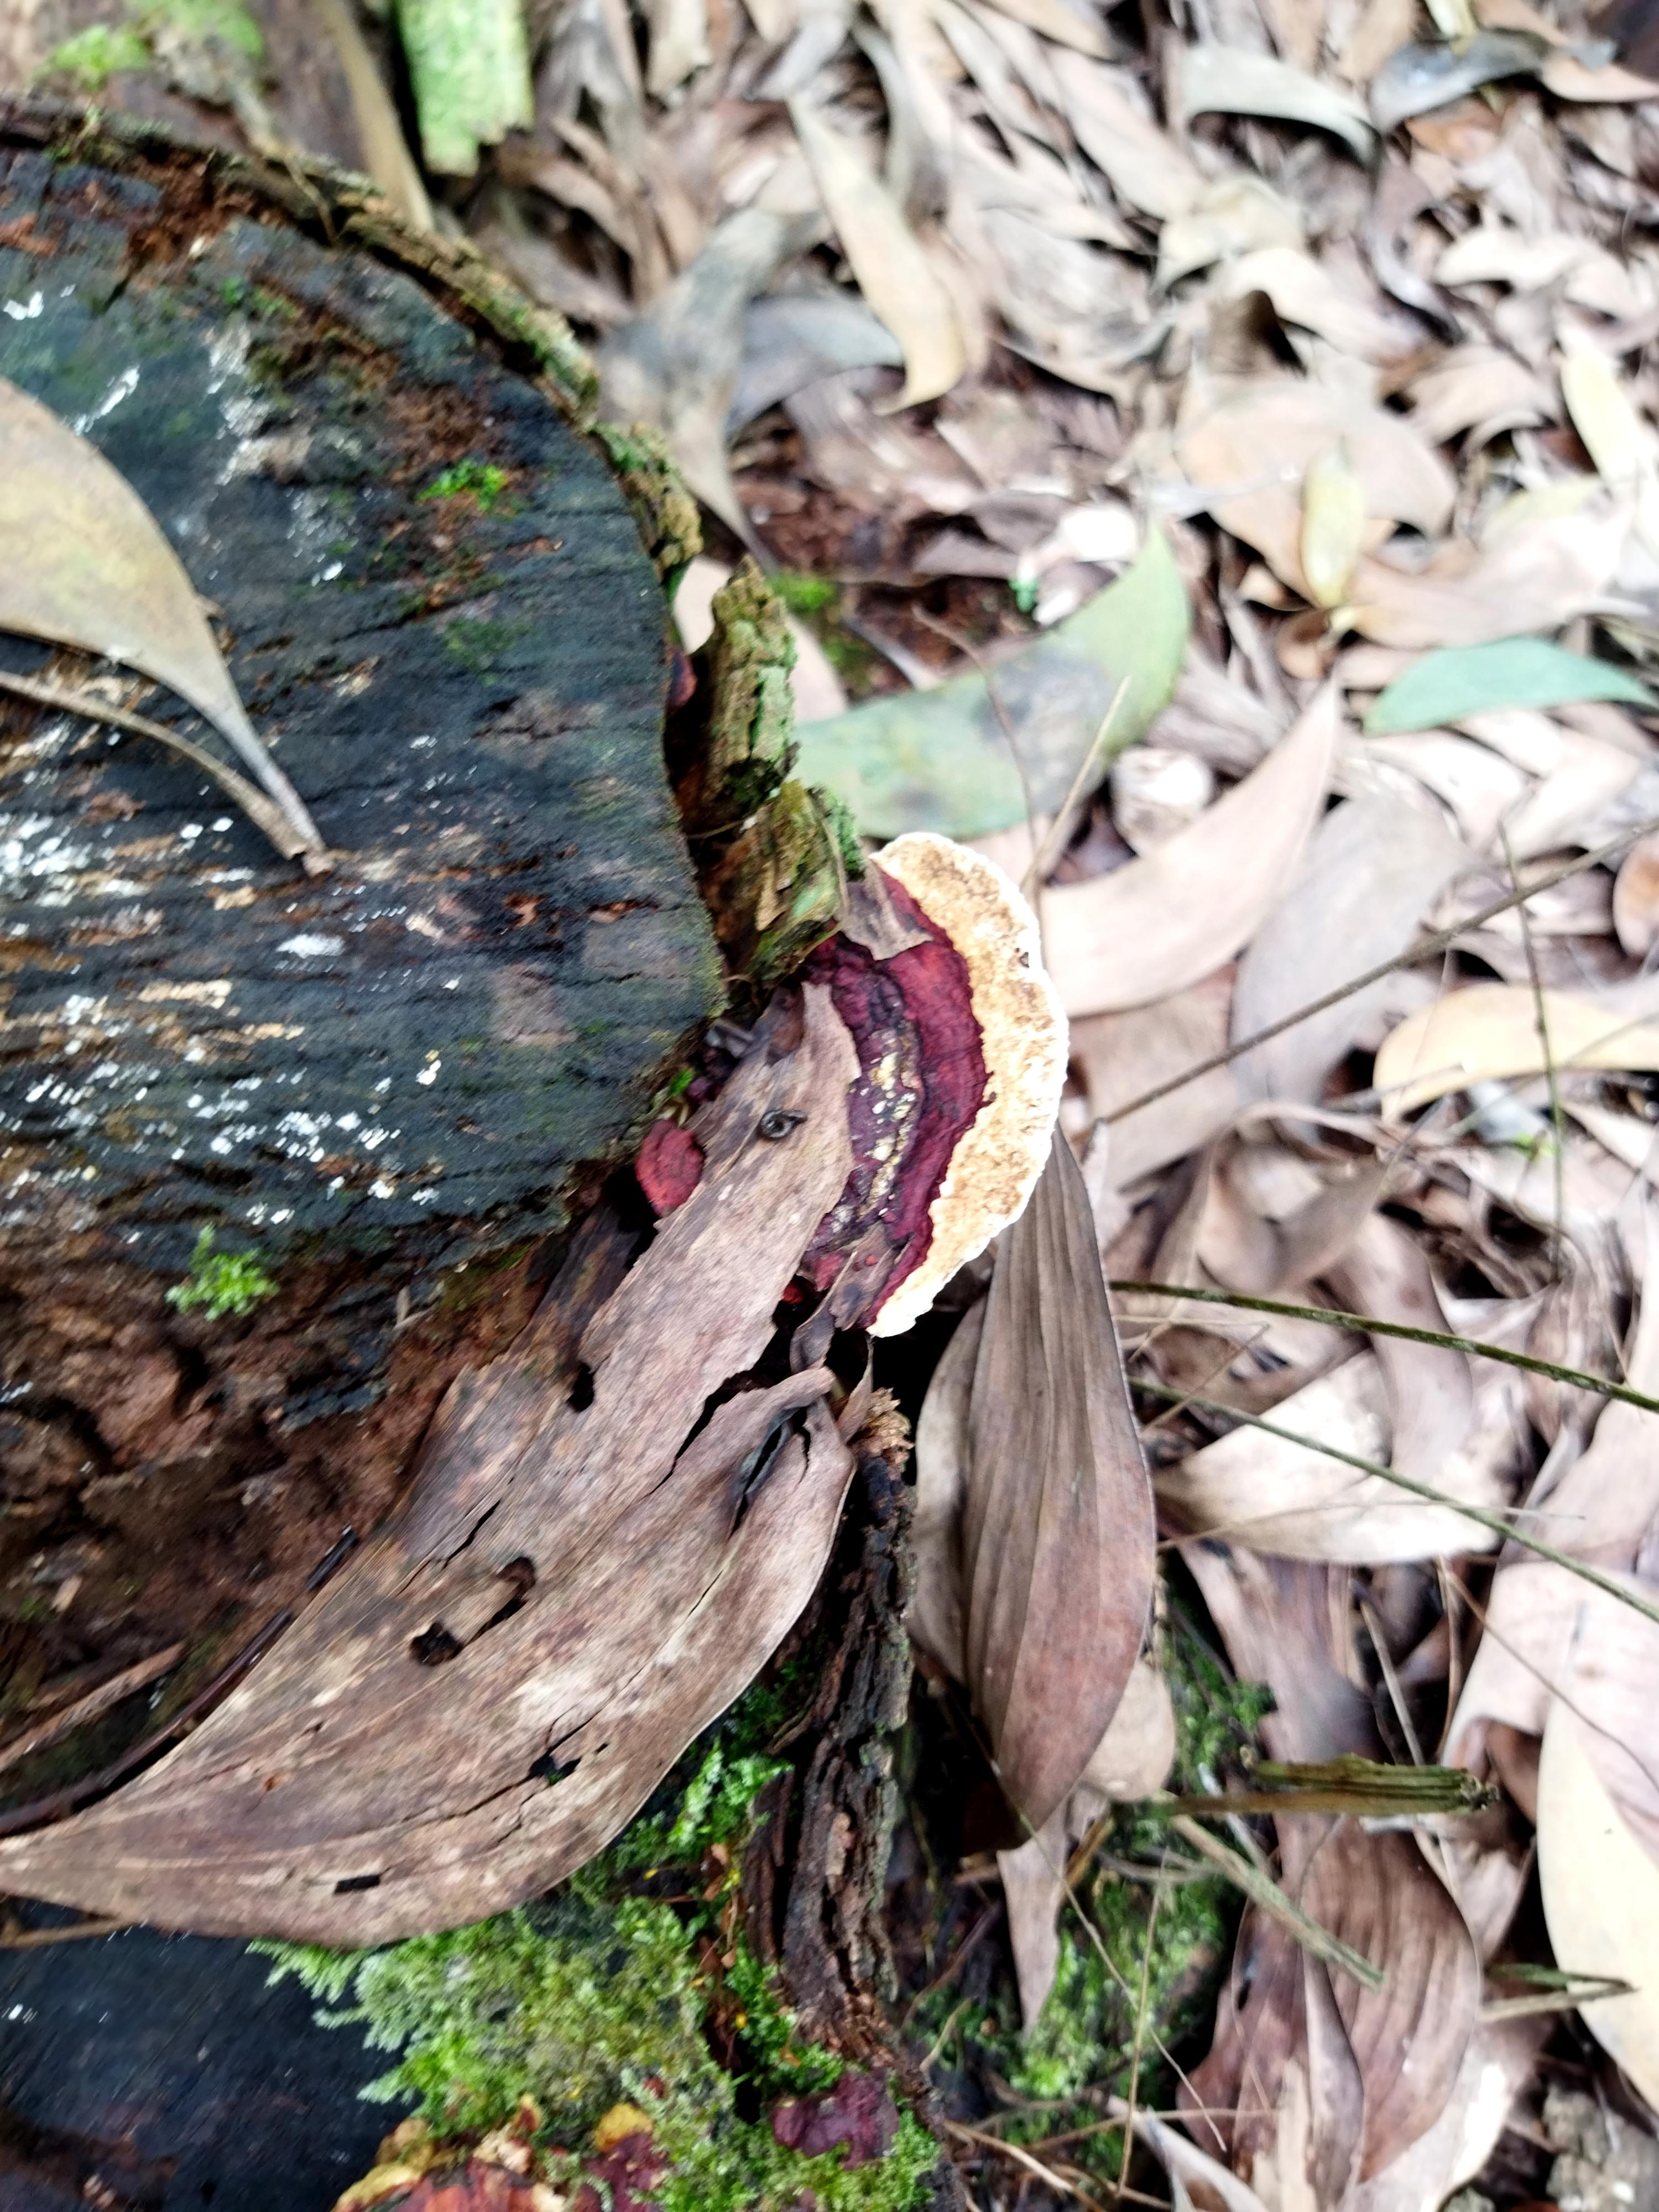Ganoderma - Fruit Body: (659, 874, 1094, 1362)
